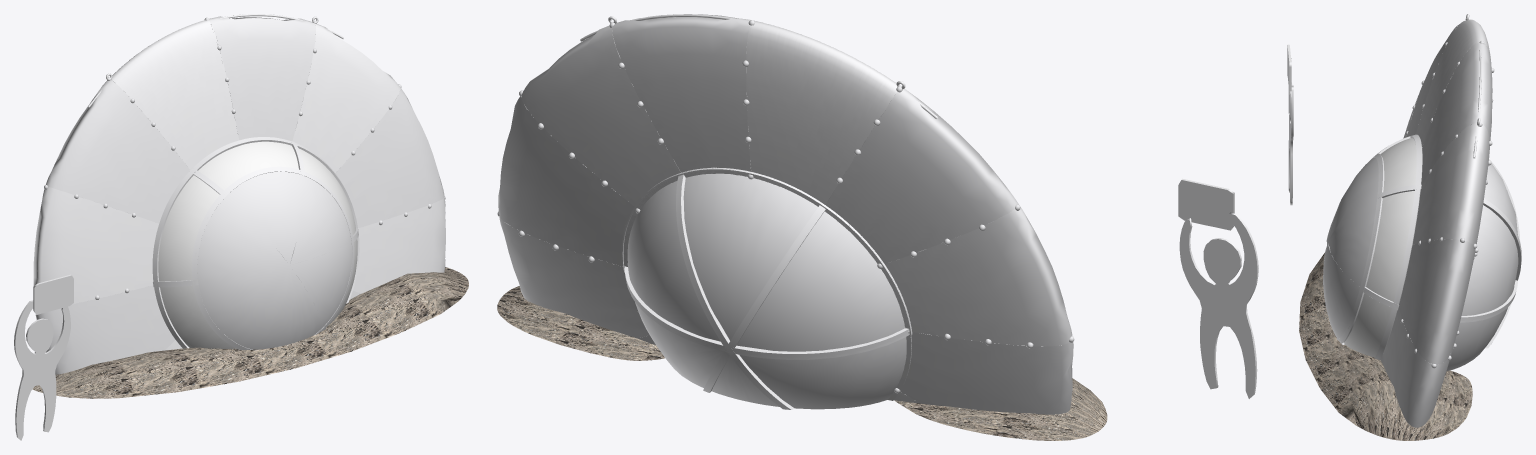
The model's file is ufo.glb.
3 renders of one model, left to right at view 1: azimuth 30°, elevation 25°; view 2: azimuth 150°, elevation 25°; view 3: azimuth 270°, elevation 25°, orthographic. The views are drawn at different scales.
Parts seen in each view (by area): view 1: Node; view 2: Node; view 3: Node.
Boxes of the visible parts, <box> form: Node: <box>14,14,468,440</box>; Node: <box>497,14,1258,440</box>; Node: <box>1287,14,1521,440</box>.
Bounding box in the file's own units: 522 × 281 × 205.
7 materials, 1 textured.
